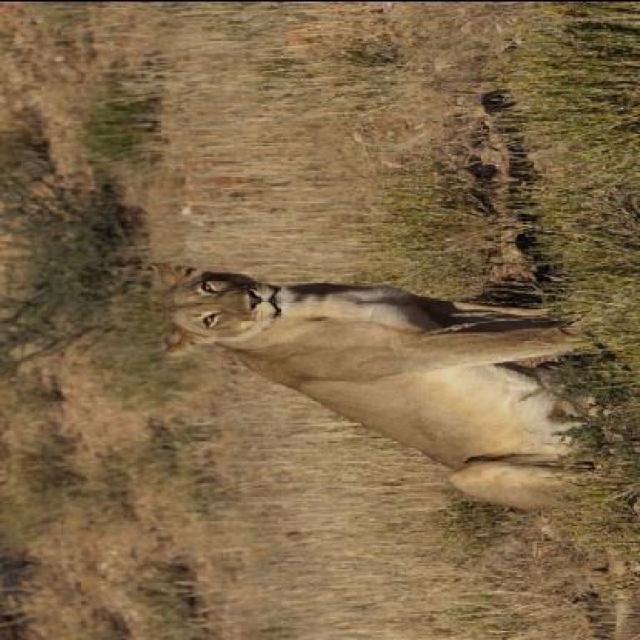Lion: (134, 232, 638, 517)
